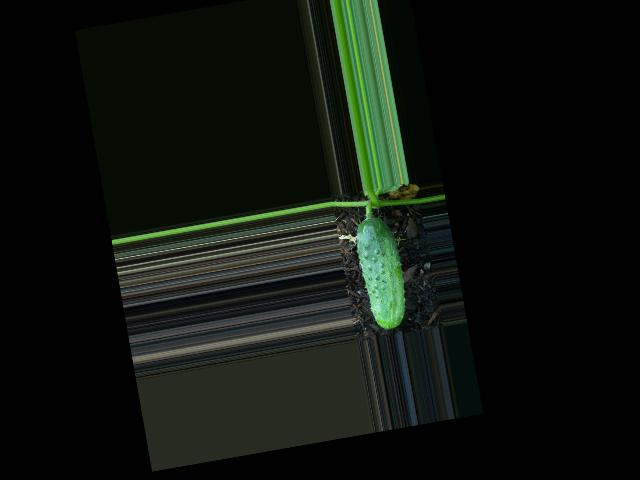cucumber: (352, 214, 412, 333)
